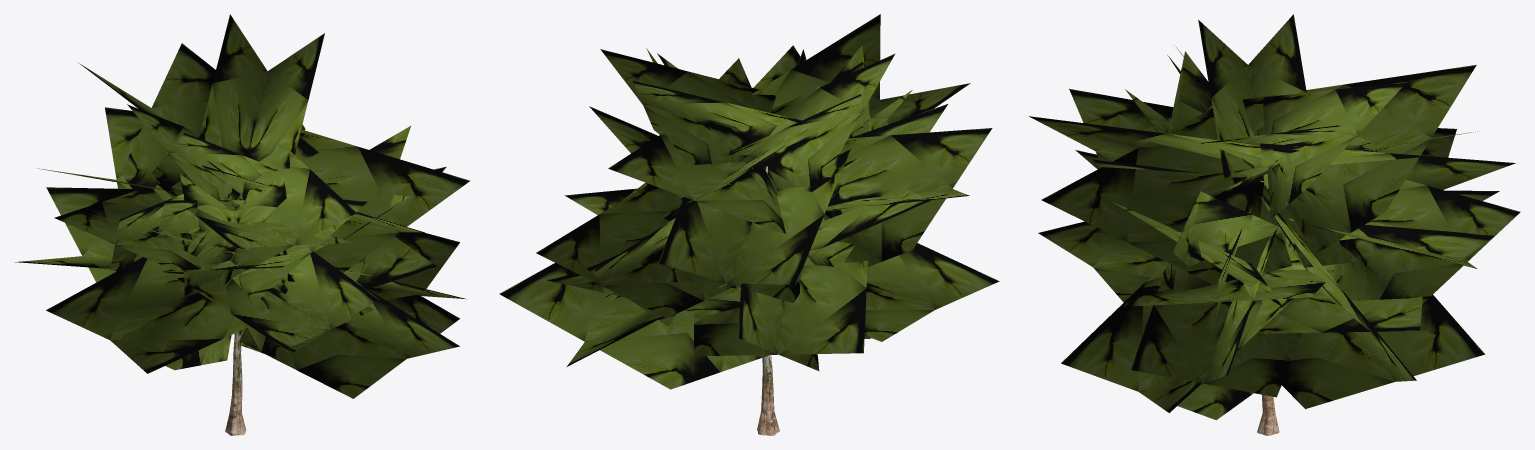
File: SmallerTree_04_01.obj
3 renders of one model, left to right at view 1: azimuth 30°, elevation 25°; view 2: azimuth 150°, elevation 25°; view 3: azimuth 270°, elevation 25°, orthographic. The views are drawn at different scales.
Visible parts, largest first — view 1: bark11, beech leaf_t; view 2: bark11, beech leaf_t; view 3: bark11, beech leaf_t.
Boxes of the visible parts, left/top/right/bottom form: bark11: left=15, top=14, right=470, bottom=398; beech leaf_t: left=225, top=194, right=246, bottom=435; bark11: left=499, top=14, right=999, bottom=389; beech leaf_t: left=757, top=166, right=839, bottom=435; bark11: left=1029, top=14, right=1520, bottom=420; beech leaf_t: left=1257, top=235, right=1347, bottom=435.
Bounding box in the file's own units: 48.64 × 40.55 × 47.66.
Materials: 2 (2 with a texture image).
